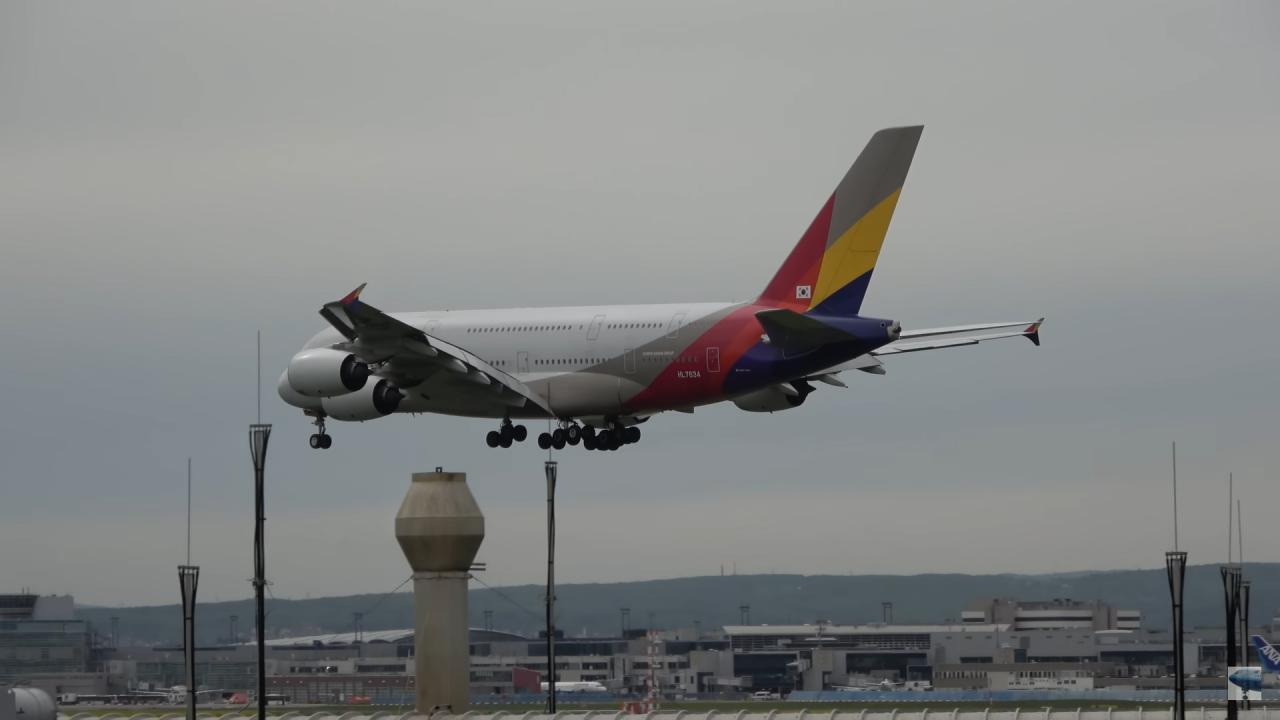Airplane: (268, 107, 1062, 464)
